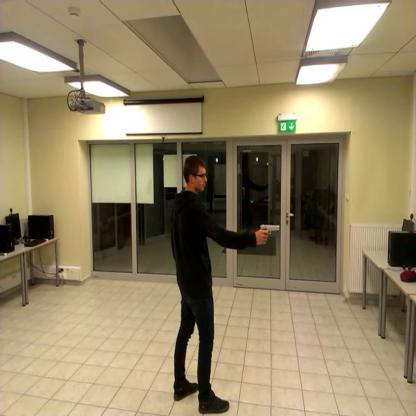Pistol: (257, 217, 283, 246)
